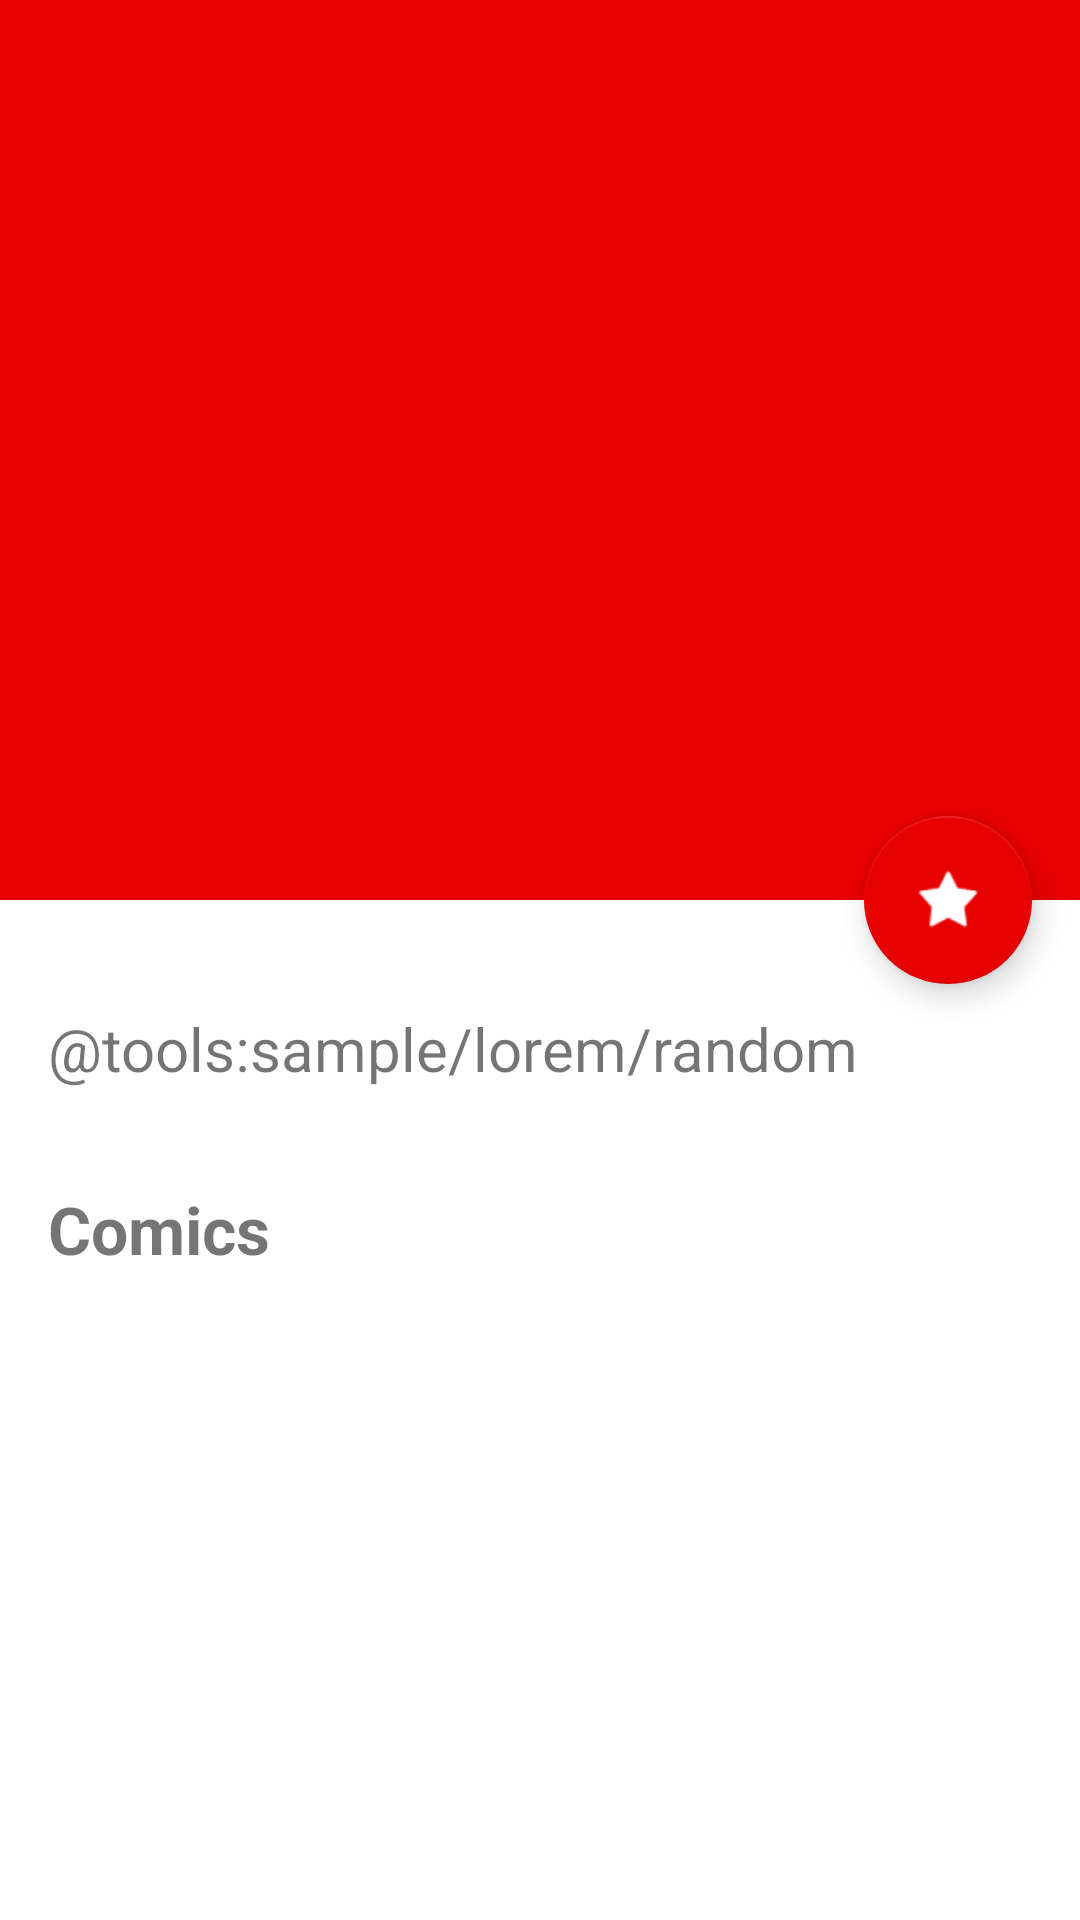

Icons on this 1080px x 1920px Android screen, each with the point to tap as (x=x, y=y):
Add to favorites button: (x=948, y=900)
